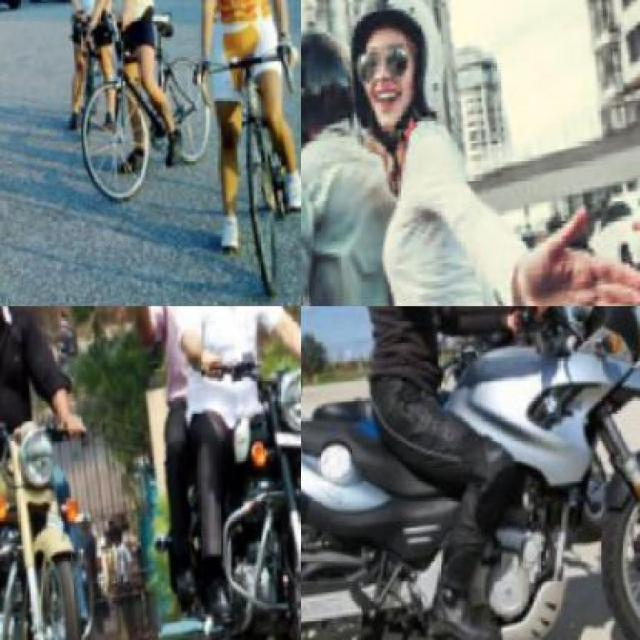With Helmet: (337, 0, 449, 140), (300, 22, 354, 162)
